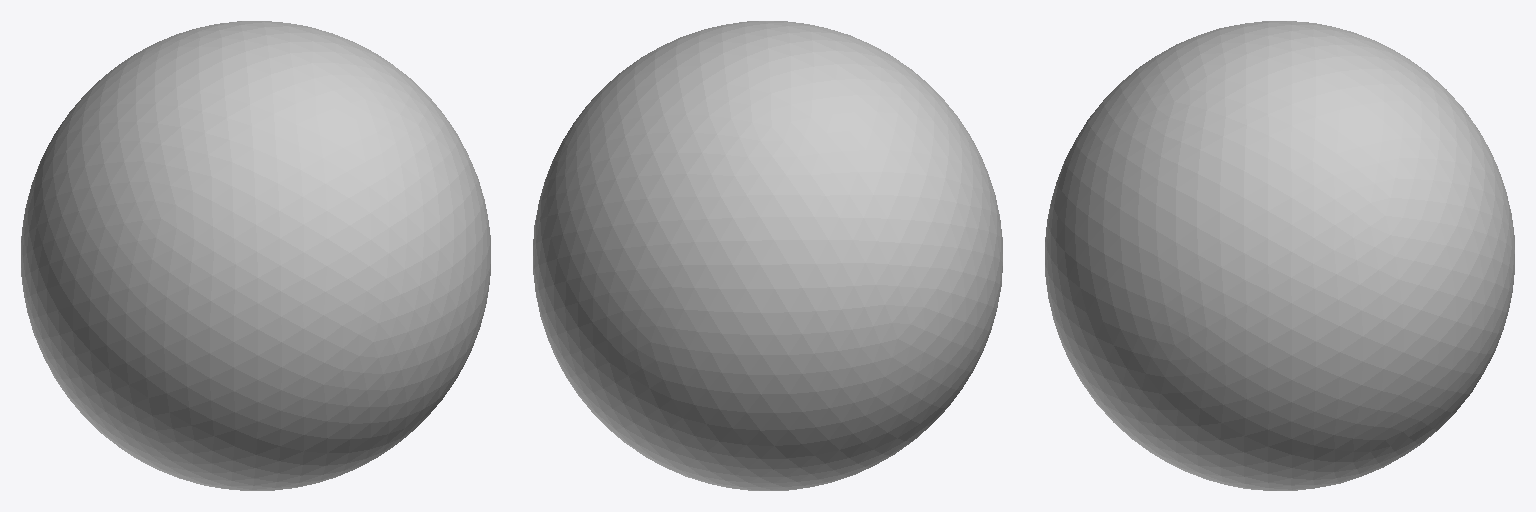
The model's file is atmoSphere.obj.
The picture shows the model from 3 angles: view 1: azimuth 30°, elevation 25°; view 2: azimuth 150°, elevation 25°; view 3: azimuth 270°, elevation 25°; orthographic projection.
Parts seen in each view (by area): view 1: pPlatonic1; view 2: pPlatonic1; view 3: pPlatonic1.
Part boxes in pixels (bbox=[...]): pPlatonic1: bbox=[21, 21, 490, 490]; pPlatonic1: bbox=[533, 21, 1002, 490]; pPlatonic1: bbox=[1045, 21, 1514, 490].
Size of the model in its own units: 2 by 2 by 2.